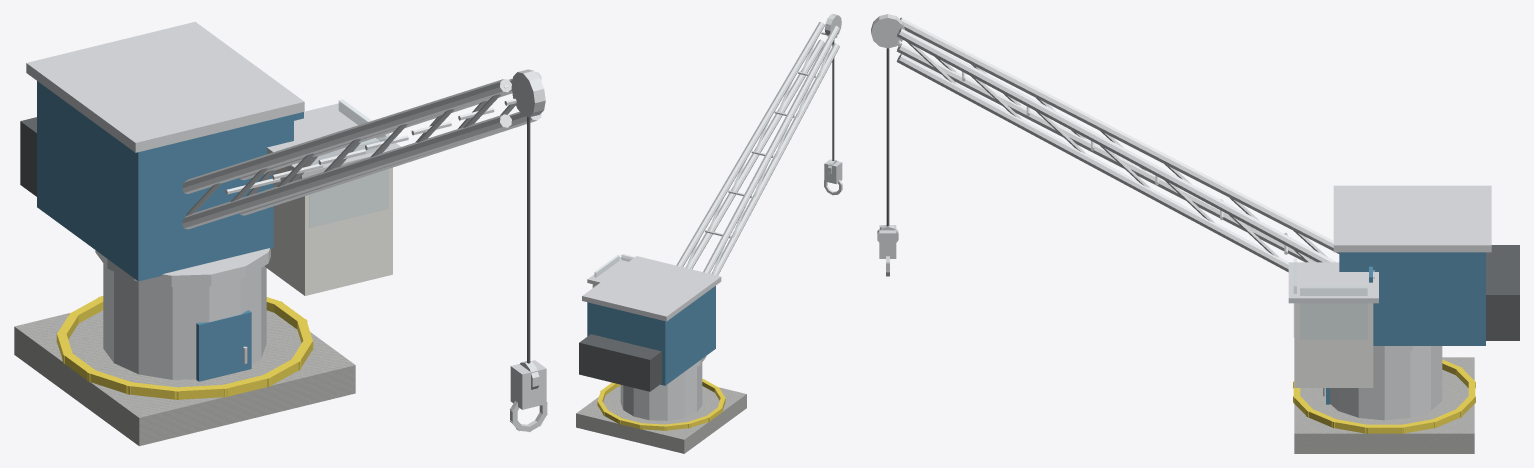
File: fish-market-and-trawler-quay-fish-market-and-trawler-q-7a3a1335__37271.glb
3 renders of one model, left to right at view 1: azimuth 30°, elevation 25°; view 2: azimuth 150°, elevation 25°; view 3: azimuth 270°, elevation 25°, orthographic. The views are drawn at different scales.
Visible parts, largest first — view 1: crane-slew/steel (×8), fish-market-and-trawler-quay-quay-crane, crane-slew/paint, crane-slew/cream, crane-slew/glass, crane-door/paint, crane-slew/charcoal (×2), crane-hook/steel (×2); view 2: crane-slew/steel (×6), fish-market-and-trawler-quay-quay-crane, crane-slew/paint, crane-slew/charcoal (×2), crane-hook/steel; view 3: crane-slew/steel (×7), fish-market-and-trawler-quay-quay-crane, crane-slew/paint, crane-slew/cream, crane-slew/charcoal (×2), crane-slew/glass.
Part boxes in pixels (x1=…): crane-slew/steel (×8): x1=26, y1=21, x2=545, y2=286; fish-market-and-trawler-quay-quay-crane: x1=14, y1=263, x2=355, y2=446; crane-slew/paint: x1=37, y1=81, x2=293, y2=281; crane-slew/cream: x1=265, y1=167, x2=392, y2=295; crane-slew/glass: x1=309, y1=136, x2=388, y2=227; crane-door/paint: x1=196, y1=310, x2=251, y2=381; crane-slew/charcoal (×2): x1=20, y1=117, x2=530, y2=363; crane-hook/steel (×2): x1=510, y1=360, x2=547, y2=432; crane-slew/steel (×6): x1=582, y1=22, x2=839, y2=321; fish-market-and-trawler-quay-quay-crane: x1=576, y1=363, x2=746, y2=453; crane-slew/paint: x1=587, y1=286, x2=715, y2=385; crane-slew/charcoal (×2): x1=579, y1=40, x2=834, y2=391; crane-hook/steel: x1=824, y1=159, x2=842, y2=184; crane-slew/steel (×7): x1=871, y1=14, x2=1491, y2=303; fish-market-and-trawler-quay-quay-crane: x1=1293, y1=346, x2=1475, y2=453; crane-slew/paint: x1=1339, y1=252, x2=1485, y2=345; crane-slew/cream: x1=1294, y1=303, x2=1373, y2=387; crane-slew/charcoal (×2): x1=886, y1=48, x2=1519, y2=340; crane-slew/glass: x1=1300, y1=287, x2=1367, y2=339.
Bounding box in the file's own units: 3.87 × 7.82 × 11.5.
7 materials, 1 textured.
